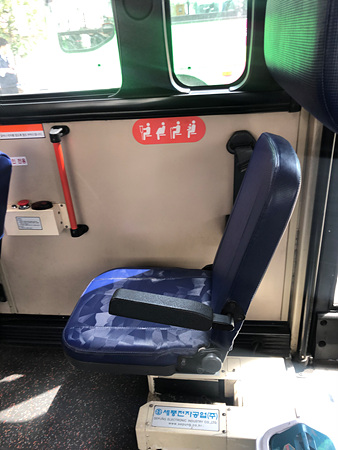seat: (52, 134, 301, 369)
